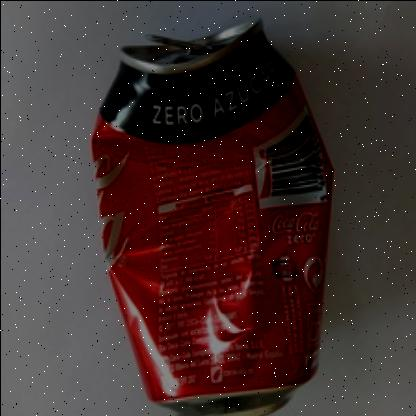Can: (87, 16, 333, 416)
